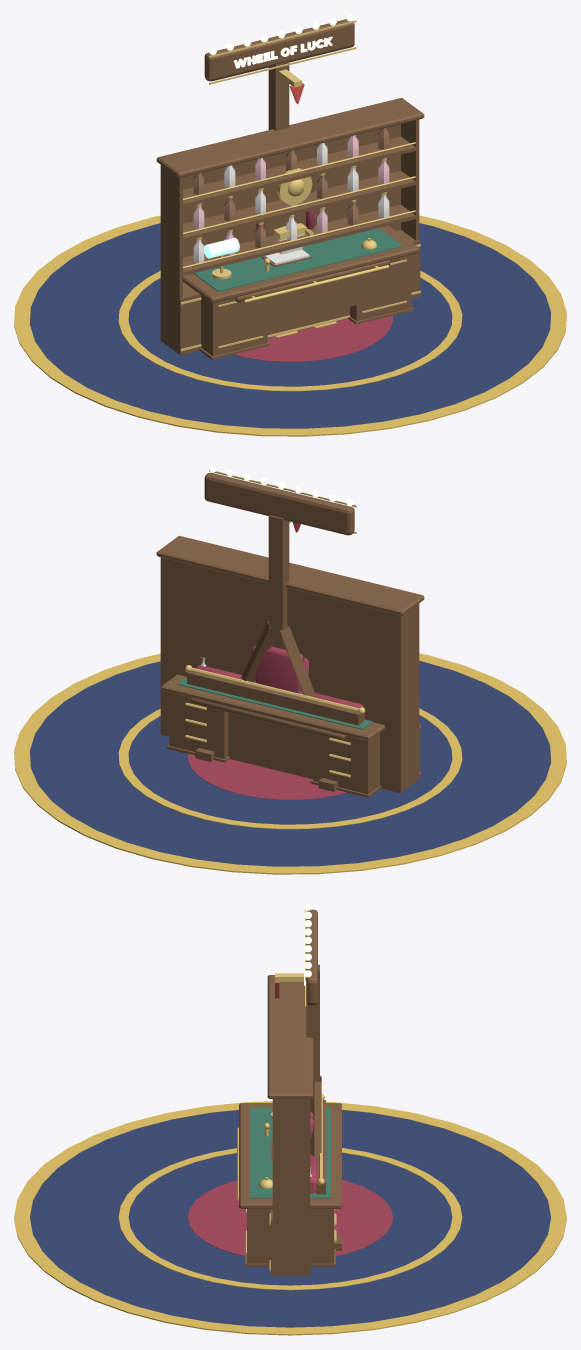
File: WChewsBack_01.glb
3 views of the same model, one above another, from view 1: azimuth 30°, elevation 25°; view 2: azimuth 150°, elevation 25°; view 3: azimuth 270°, elevation 25° (orthographic).
Visible parts, largest first — view 1: WcRug_Field, WcMilkShelf_Wood, WcRug_Gold, WcBossDesk_Body, WcWheelStand_Frame, WcRug_Centre, WcBossDesk_Leather, WcMilkShelf_Brass, WcWheelStand_Brass, WcMilkShelf_Chocolate, WcMilkShelf_Milk, WcMilkShelf_Strawberry (+5 smaller); view 2: WcRug_Field, WcMilkShelf_Wood, WcRug_Gold, WcWheelStand_Frame, WcBossDesk_Body, WcBooth_Wood, WcRug_Centre, WcBossChair_Leather, WcShuffleTable_Wood, WcBooth_Brass, WcBossDesk_Leather, WcBooth_Leather; view 3: WcRug_Field, WcRug_Gold, WcMilkShelf_Wood, WcRug_Centre, WcBossDesk_Body, WcWheelStand_Frame, WcBossDesk_Leather.
Boxes of the visible parts, x1=… form: WcRug_Field: x1=30, y1=223, x2=550, y2=428; WcMilkShelf_Wood: x1=156, y1=97, x2=424, y2=355; WcRug_Gold: x1=14, y1=215, x2=566, y2=436; WcBossDesk_Body: x1=183, y1=225, x2=419, y2=359; WcWheelStand_Frame: x1=204, y1=19, x2=381, y2=348; WcRug_Centre: x1=234, y1=315, x2=392, y2=361; WcBossDesk_Leather: x1=193, y1=228, x2=403, y2=291; WcMilkShelf_Brass: x1=180, y1=142, x2=420, y2=351; WcWheelStand_Brass: x1=209, y1=20, x2=356, y2=204; WcMilkShelf_Chocolate: x1=193, y1=127, x2=389, y2=247; WcMilkShelf_Milk: x1=193, y1=142, x2=389, y2=262; WcMilkShelf_Strawberry: x1=193, y1=135, x2=389, y2=255; WcRug_Field: x1=30, y1=661, x2=550, y2=866; WcMilkShelf_Wood: x1=156, y1=535, x2=424, y2=792; WcRug_Gold: x1=14, y1=653, x2=566, y2=874; WcWheelStand_Frame: x1=195, y1=472, x2=354, y2=791; WcBossDesk_Body: x1=161, y1=674, x2=419, y2=797; WcBooth_Wood: x1=187, y1=671, x2=363, y2=778; WcRug_Centre: x1=188, y1=753, x2=346, y2=799; WcBossChair_Leather: x1=251, y1=646, x2=308, y2=692; WcShuffleTable_Wood: x1=190, y1=698, x2=345, y2=740; WcBooth_Brass: x1=185, y1=665, x2=365, y2=714; WcBossDesk_Leather: x1=177, y1=677, x2=372, y2=729; WcBooth_Leather: x1=196, y1=665, x2=364, y2=719; WcRug_Field: x1=30, y1=1110, x2=550, y2=1327; WcRug_Gold: x1=14, y1=1101, x2=566, y2=1335; WcMilkShelf_Wood: x1=267, y1=975, x2=313, y2=1275; WcRug_Centre: x1=187, y1=1180, x2=393, y2=1256; WcBossDesk_Body: x1=239, y1=1103, x2=341, y2=1266; WcWheelStand_Frame: x1=306, y1=909, x2=341, y2=1250; WcBossDesk_Leather: x1=250, y1=1107, x2=330, y2=1198.
Size of the model in its own units: 28 by 18.95 by 28.
